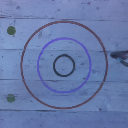Axe Tip: (115, 54, 125, 60)
